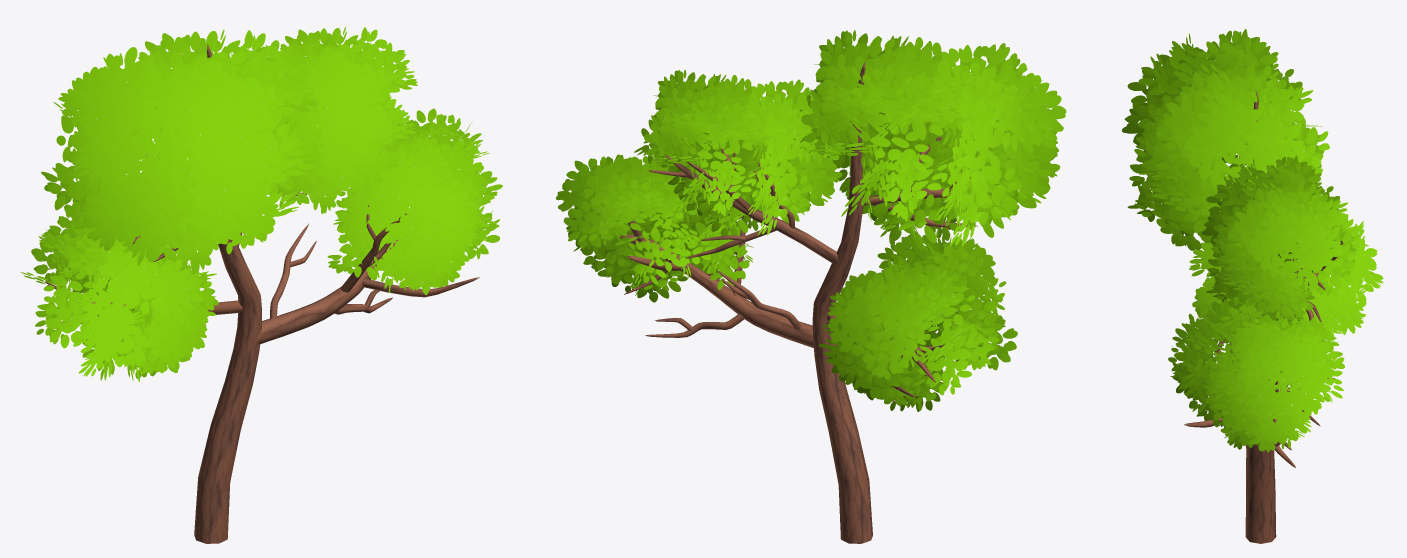
Rendered from etFGNvsiFv.glb.
3 renders of one model, left to right at view 1: azimuth 30°, elevation 25°; view 2: azimuth 150°, elevation 25°; view 3: azimuth 270°, elevation 25°, orthographic. The views are drawn at different scales.
Parts seen in each view (by area): view 1: NormalTree_3; view 2: NormalTree_3; view 3: NormalTree_3.
Boxes of the visible parts, <box> form: NormalTree_3: <box>20,26,502,543</box>; NormalTree_3: <box>556,30,1066,543</box>; NormalTree_3: <box>1122,29,1383,543</box>.
Size of the model in its own units: 5.04 by 5.28 by 2.88.
2 materials, 2 textured.
